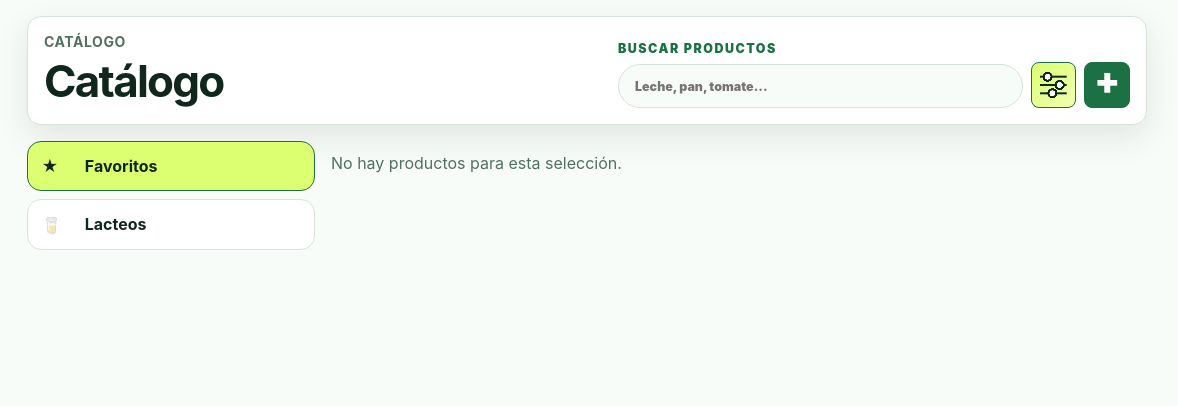
CatalogPage › opens category and product action menus for editing or deleting entries
This screenshot has width=1178, height=406.
Click the button "🥛 Lacteos" at (116, 224), box [27,199,315,250]
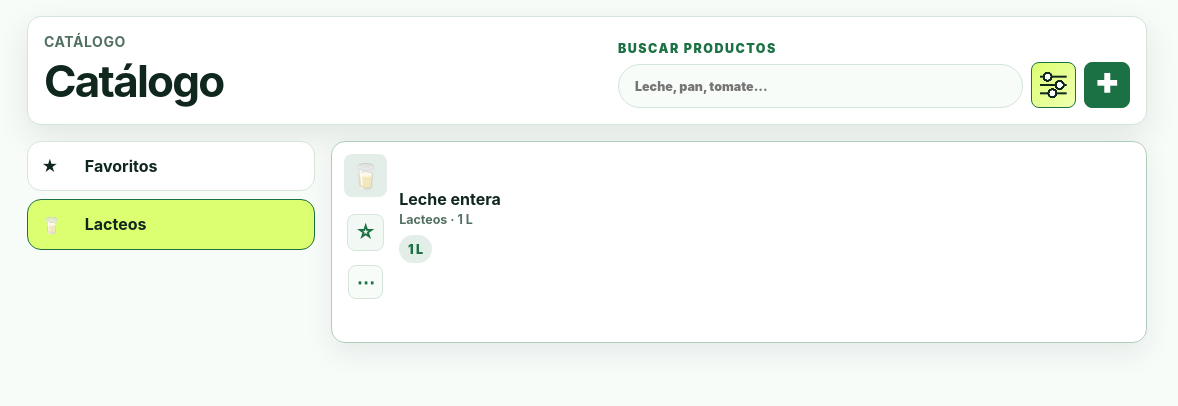
Click the button "🥛 Lacteos" at (116, 224), box [27,199,315,250]
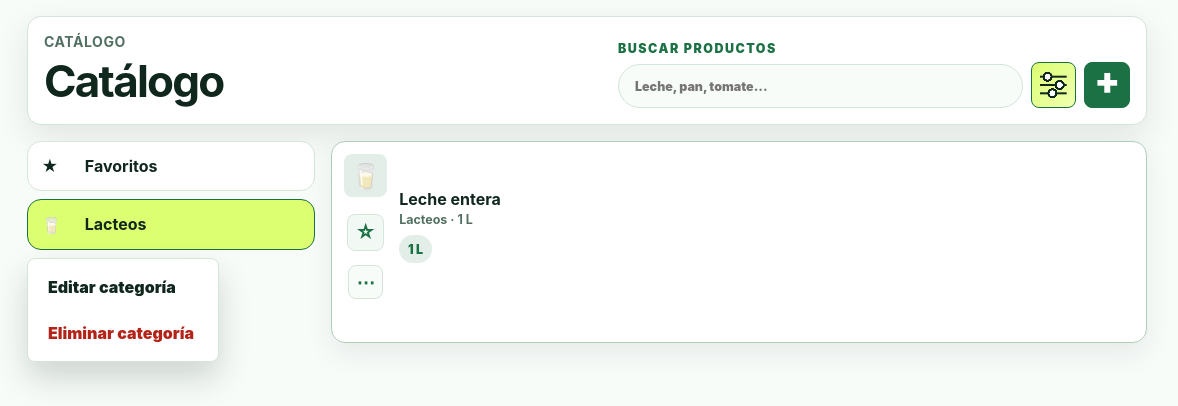
Check: the button "Editar categoría" is shown, box [35,266,211,308]
Check: the button "Eliminar categoría" is shown, box [35,312,211,354]
Click the button named "Acciones de producto Leche entera" at (366, 282), box [348,265,383,299]
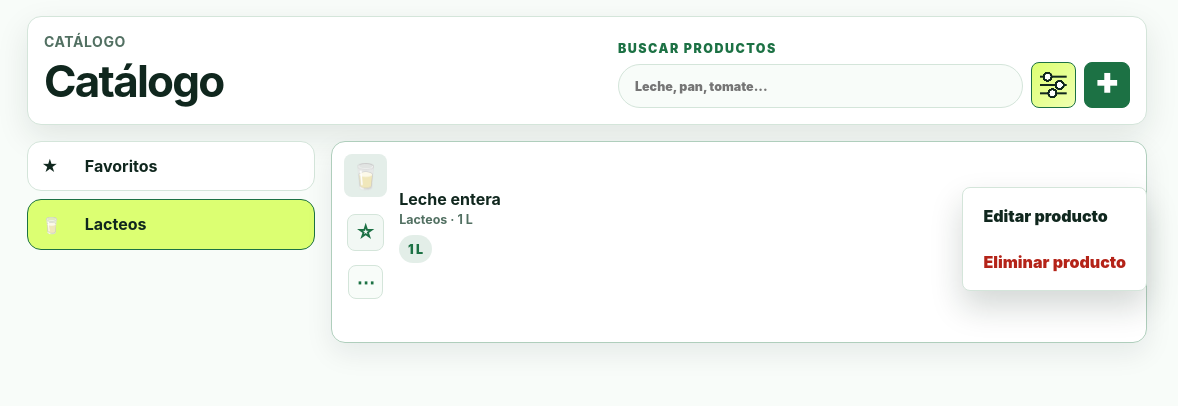
Check: the button "Editar producto" is shown, box [971,195,1139,237]
Check: the button "Eliminar producto" is shown, box [971,240,1139,283]
